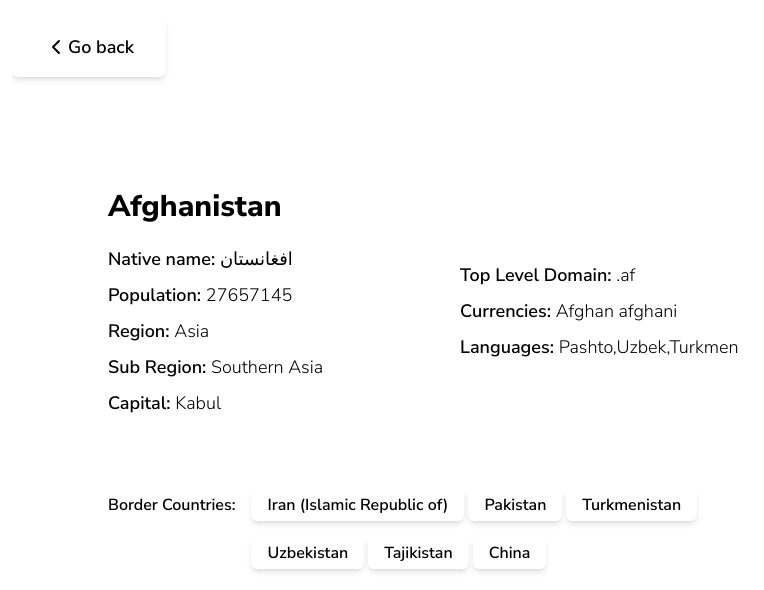
Test: CountryDetails test › should navigate to a border country
Check: the heading "Afghanistan" is shown, box [108,186,282,227]
Click the button titled "IRN" at (358, 505), box [252,489,464,521]
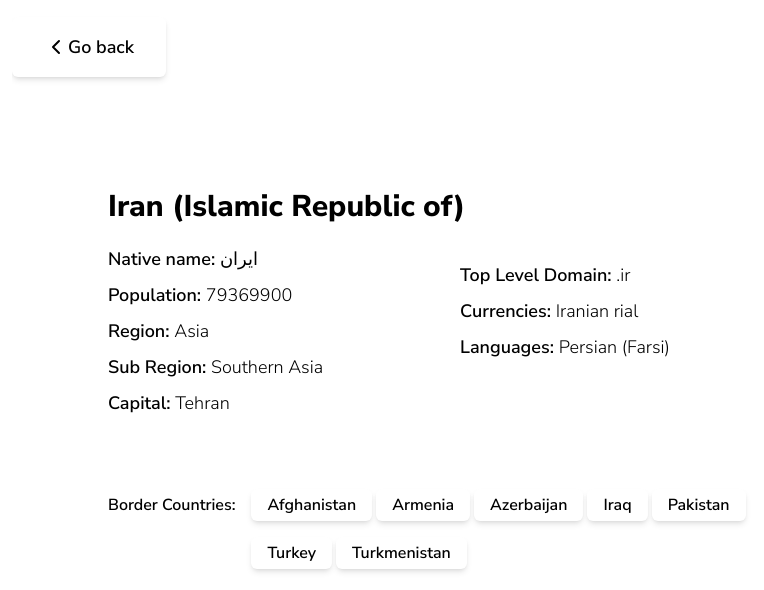
Check: the heading "Iran (Islamic Republic of)" is shown, box [108,186,465,227]
Click the button "Go back" at (89, 47), box [12,17,166,77]
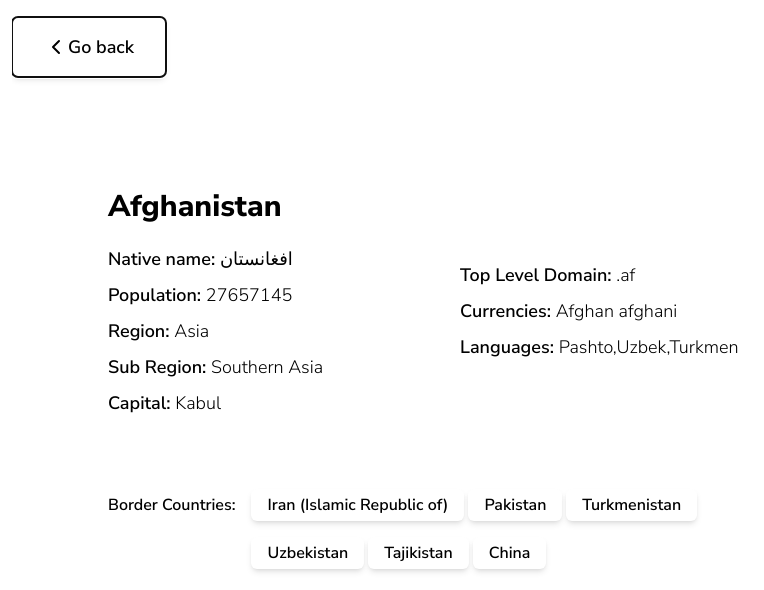
Check: the heading "Afghanistan" is shown, box [108,186,282,227]
